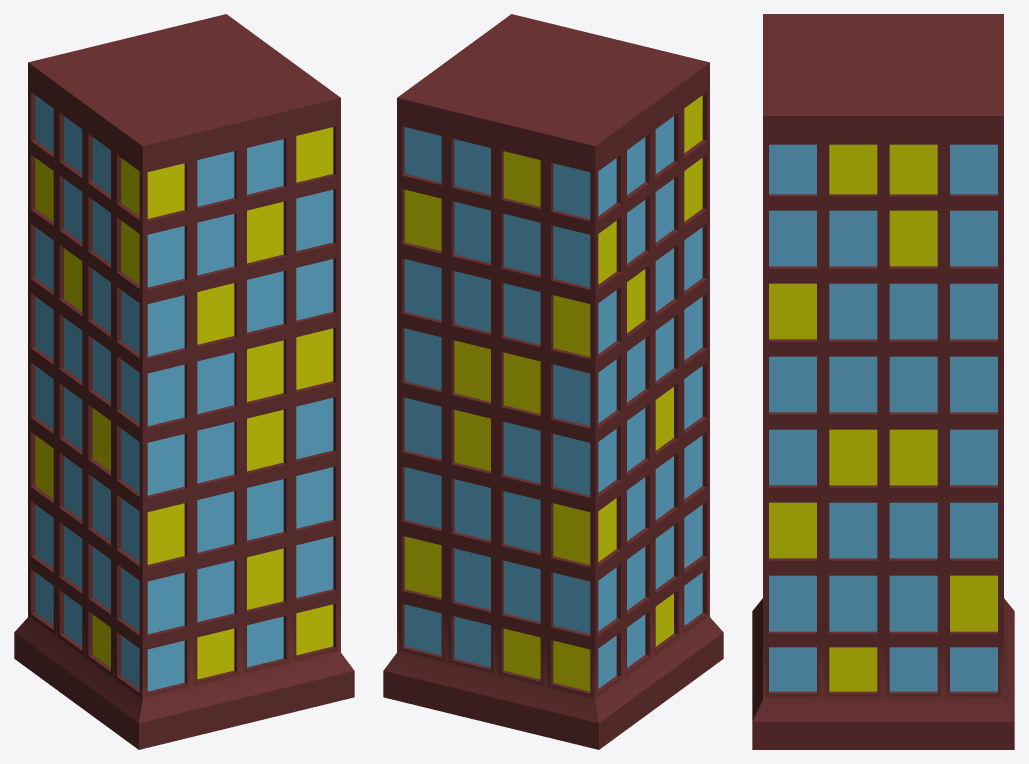
The model's file is Building4.fbx.
3 views of the same model, side by side, from view 1: azimuth 30°, elevation 25°; view 2: azimuth 150°, elevation 25°; view 3: azimuth 270°, elevation 25° (orthographic). The views are drawn at different scales.
Visible parts, largest first — view 1: pCube4; view 2: pCube4; view 3: pCube4.
Boxes of the visible parts, x1,y1,x2,y2 form: pCube4: [14, 14, 354, 749]; pCube4: [383, 14, 723, 749]; pCube4: [752, 14, 1014, 749].
Bounding box in the file's own units: 8.92 × 23.64 × 8.92.
